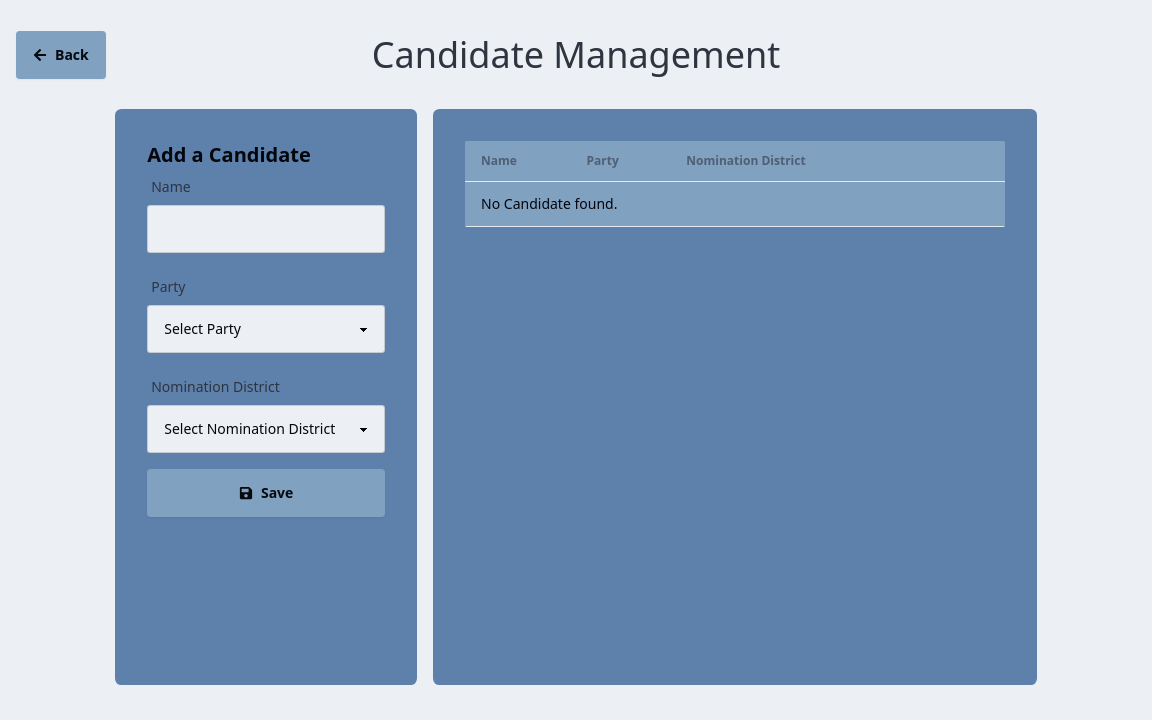
Scenario: CandidateScreen › should add a candidate and refresh list
This screenshot has width=1152, height=720.
Step 1. Type "Test Man" into the field with id "name" → (266, 229), box [147,205,385,253]
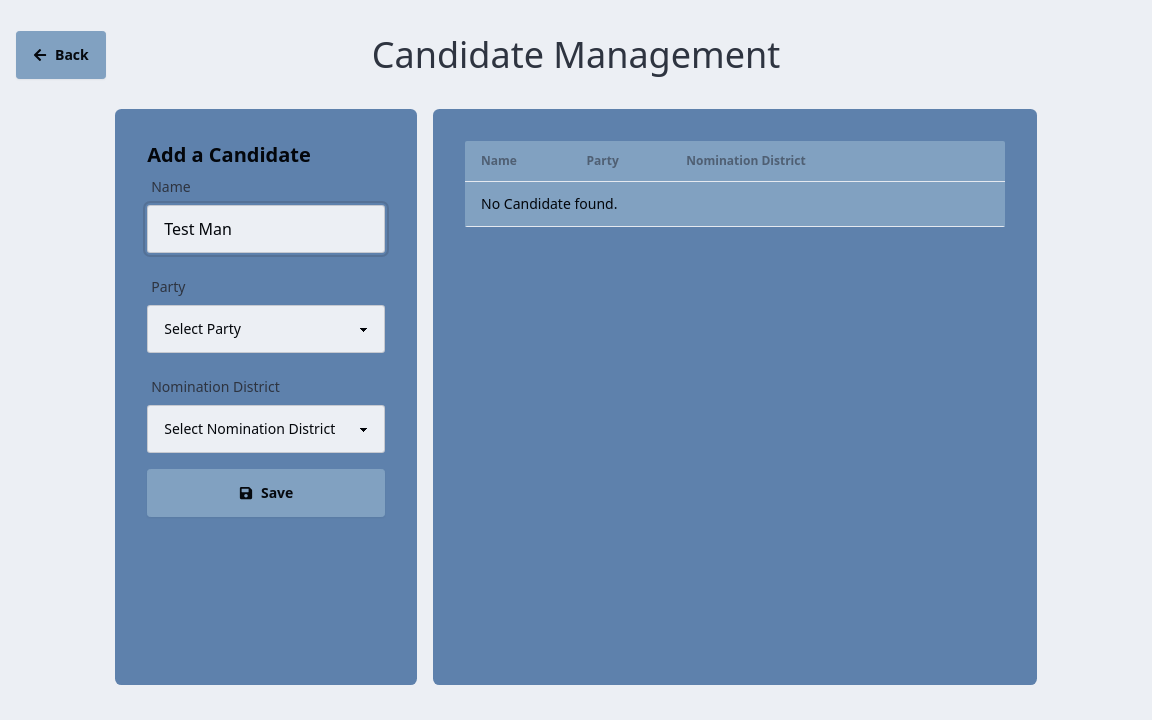
Step 2. Select "Nordlisten" in the dropdown labelled "Party" → (266, 329), box [147,305,385,353]
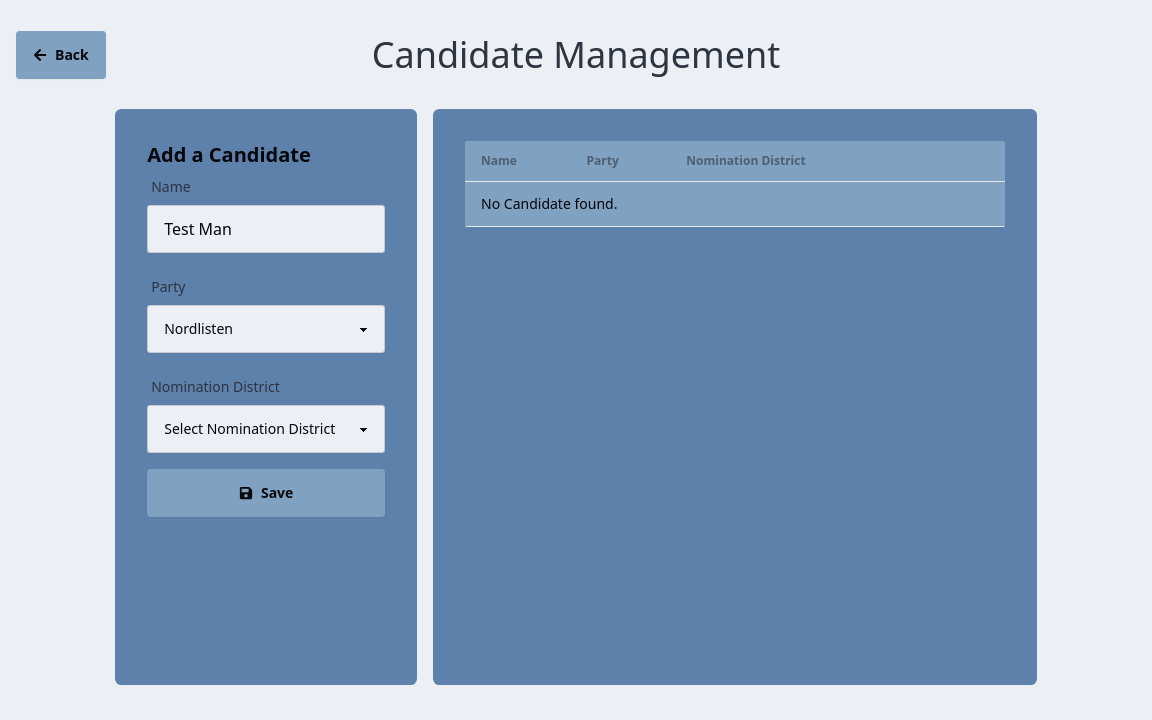
Step 3. Select "Banan-distriktet" in the dropdown with id "nominationDistrict" → (266, 429), box [147,405,385,453]
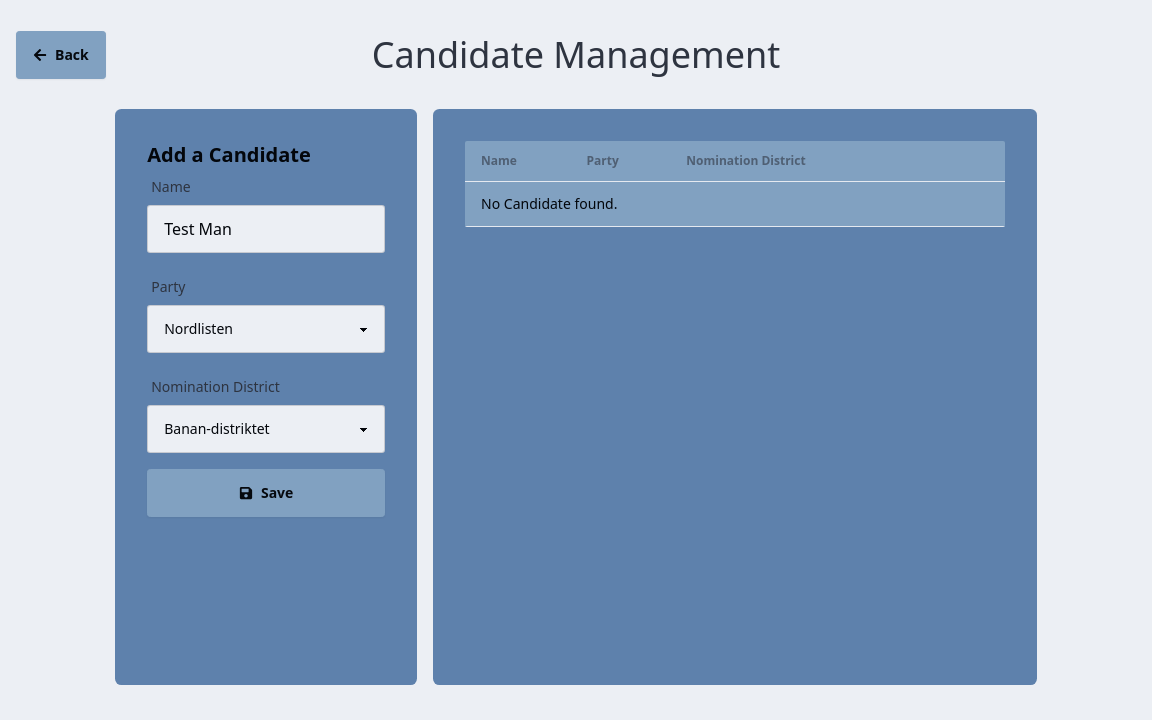
Step 4. Click the submit button → (266, 493), box [147,469,385,517]
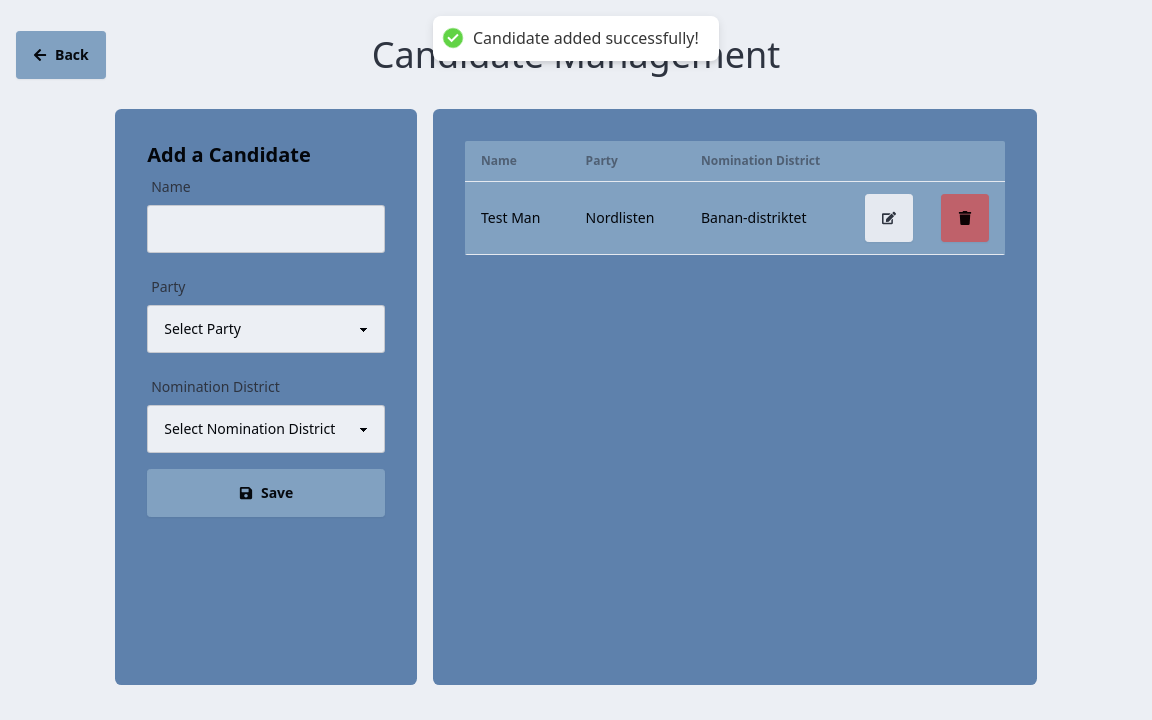
Now the text "Candidate added successfully!" is shown, box [473,28,699,49]
Now the cell "Test Man" is shown, box [465,182,570,255]
Now the cell "Nordlisten" is shown, box [570,182,685,255]
